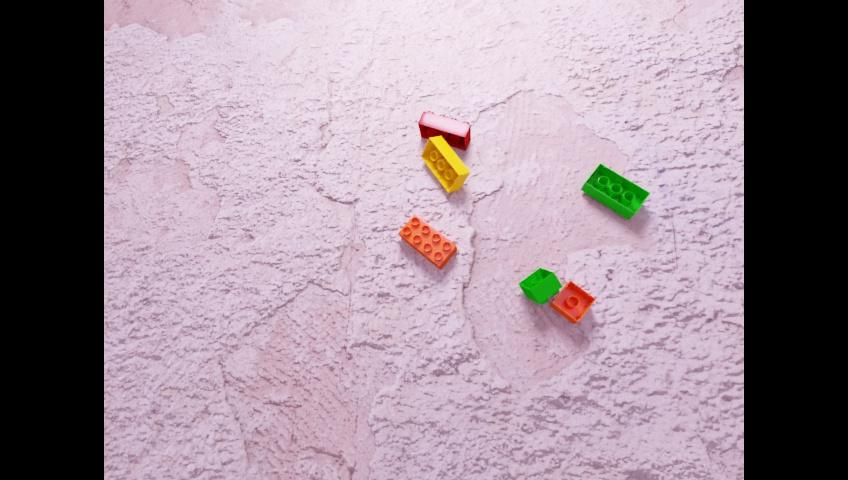2x2_green: (518, 267, 561, 304)
2x2_orange: (550, 280, 595, 323)
4x2_green: (581, 162, 649, 219)
4x2_orange: (398, 213, 456, 269)
4x2_red: (417, 110, 470, 150)
4x2_yellow: (420, 135, 469, 192)
